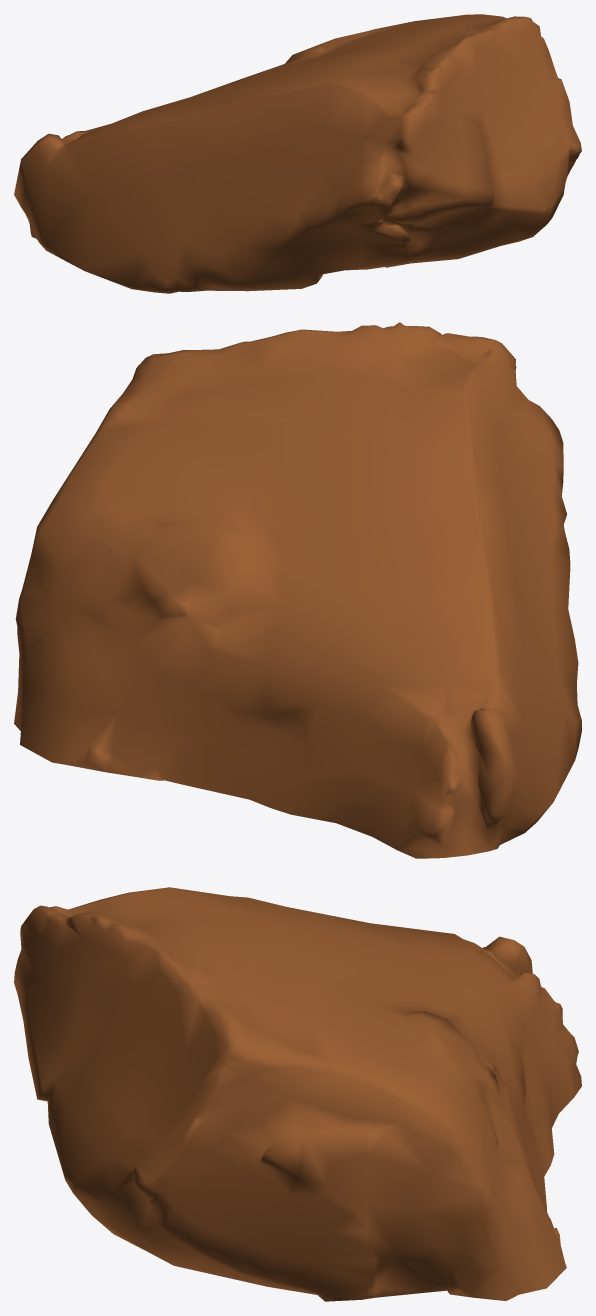
File: MSH_Rocks_Boulder_03.FBX
3 views of the same model, one above another, from view 1: azimuth 30°, elevation 25°; view 2: azimuth 150°, elevation 25°; view 3: azimuth 270°, elevation 25° (orthographic). The views are drawn at different scales.
Parts seen in each view (by area): view 1: MESH_LOD0; view 2: MESH_LOD0; view 3: MESH_LOD0.
Part boxes in pixels (x1,y1,x2,y2): MESH_LOD0: (14,14,581,293); MESH_LOD0: (14,322,581,858); MESH_LOD0: (14,887,581,1301).
Size of what is drawn, in the model's own units: 91.65 by 48.76 by 84.5.
